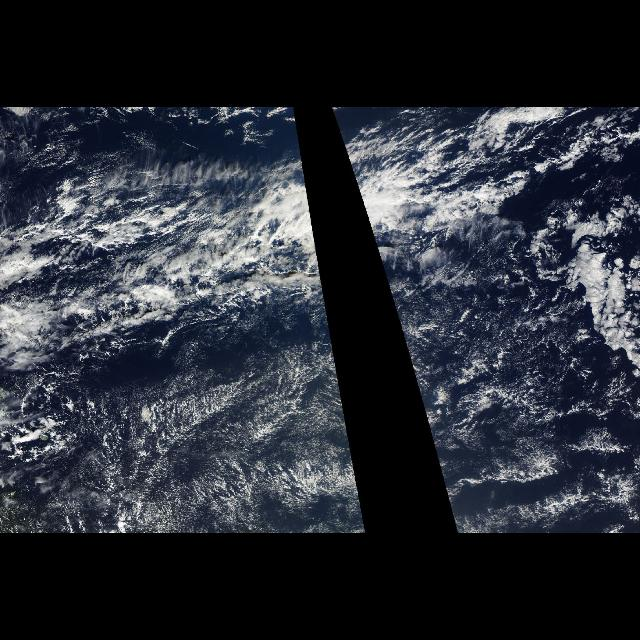Fish: (1, 191, 298, 373)
Sugar: (44, 345, 366, 525), (408, 355, 584, 525)
